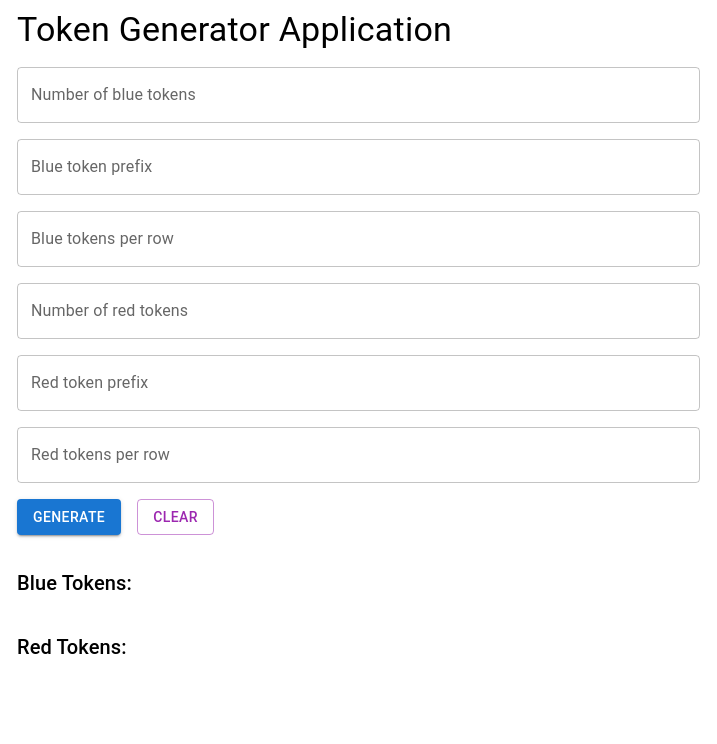
it: TokenGenerator Component › clears tokens and form values on clear button click
This screenshot has width=717, height=744.
# Fill inputs and generate tokens
Type "6" into the number field labelled "Number of blue tokens" at (358, 95), box left=17, top=67, right=700, bottom=123
Type "Blue-" into the field labelled "Blue token prefix" at (358, 167), box left=17, top=139, right=700, bottom=195
Type "3" into the number field labelled "Blue tokens per row" at (358, 239), box left=17, top=211, right=700, bottom=267
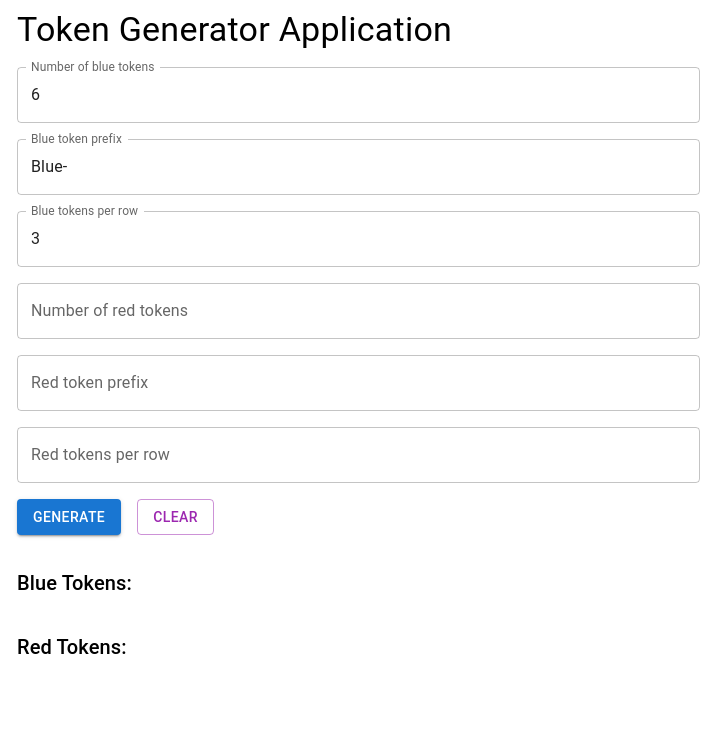
Type "4" into the number field labelled "Number of red tokens" at (358, 311), box left=17, top=283, right=700, bottom=339
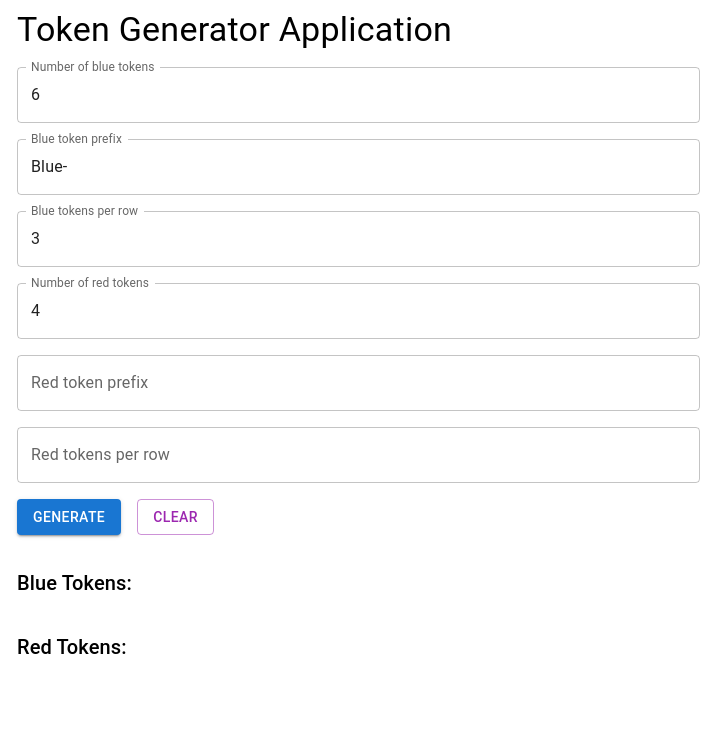
Type "Red-" into the field labelled "Red token prefix" at (358, 383), box left=17, top=355, right=700, bottom=411
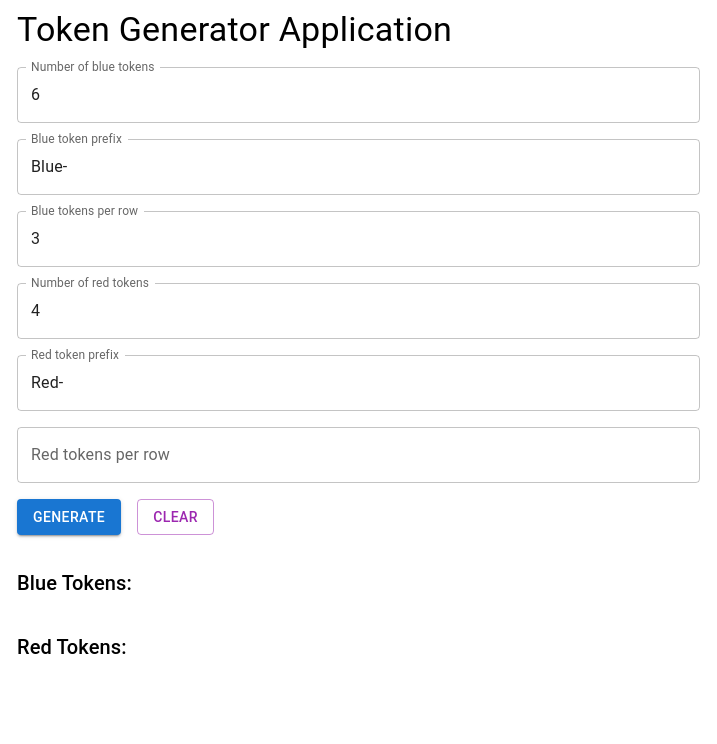
Type "2" into the number field labelled "Red tokens per row" at (358, 455), box left=17, top=427, right=700, bottom=483
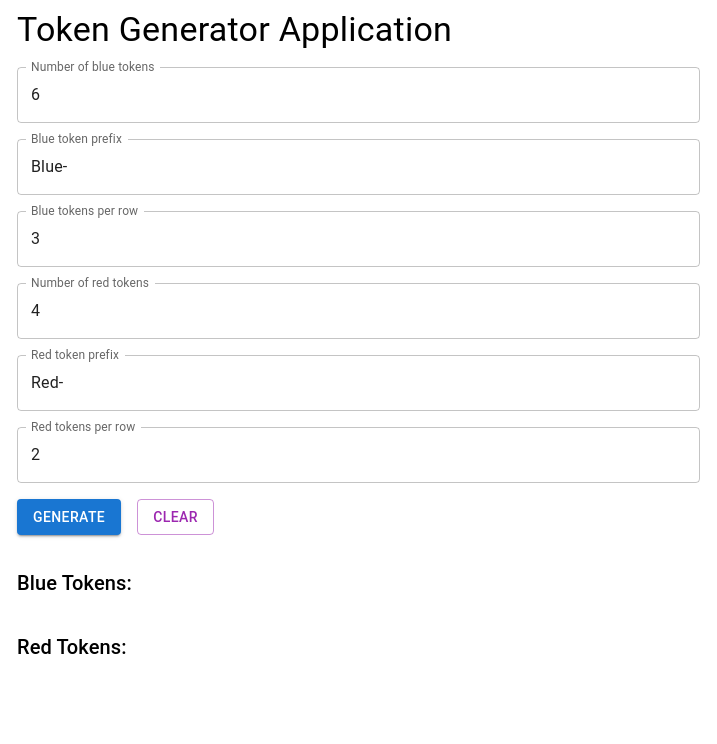
Click the button "Generate" at (69, 517), box left=17, top=499, right=121, bottom=536
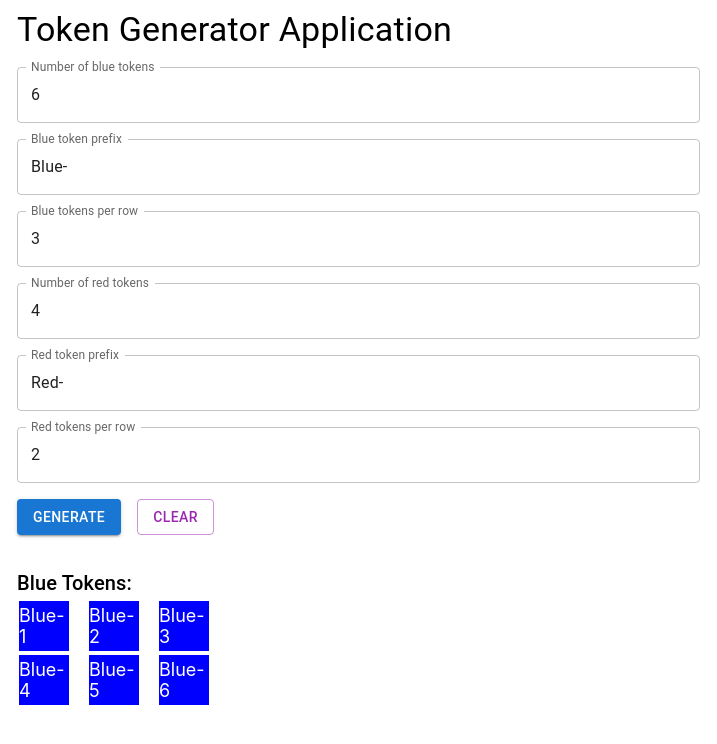
Now the text "Blue-1" is shown, box left=19, top=602, right=69, bottom=652
# Click the clear button
Click the button "Clear" at (176, 517), box left=137, top=499, right=214, bottom=536
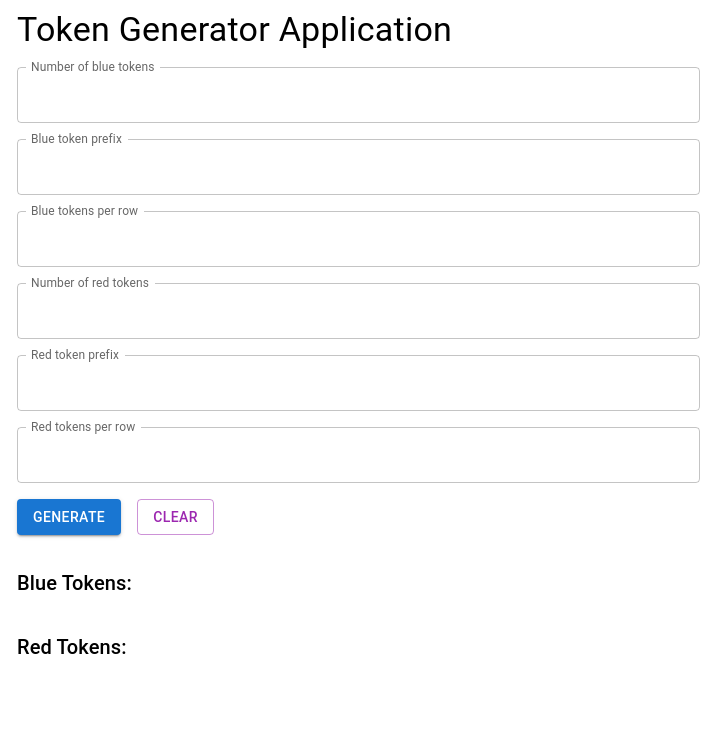
Now the text "Blue-1" is gone
Now the number field labelled "Number of blue tokens" is empty, box left=17, top=67, right=700, bottom=123
Now the field labelled "Blue token prefix" is empty, box left=17, top=139, right=700, bottom=195
